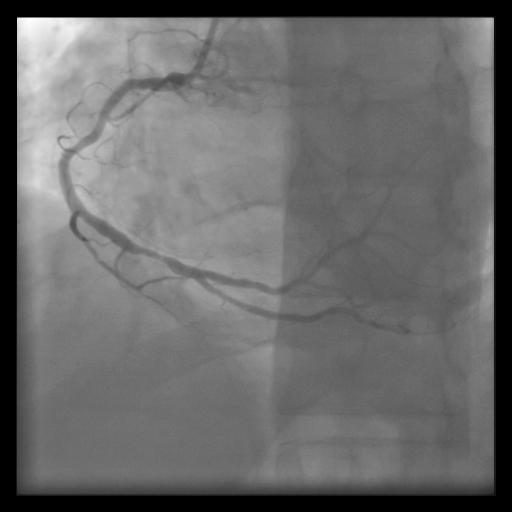Stenosis: (134, 237, 175, 275)
